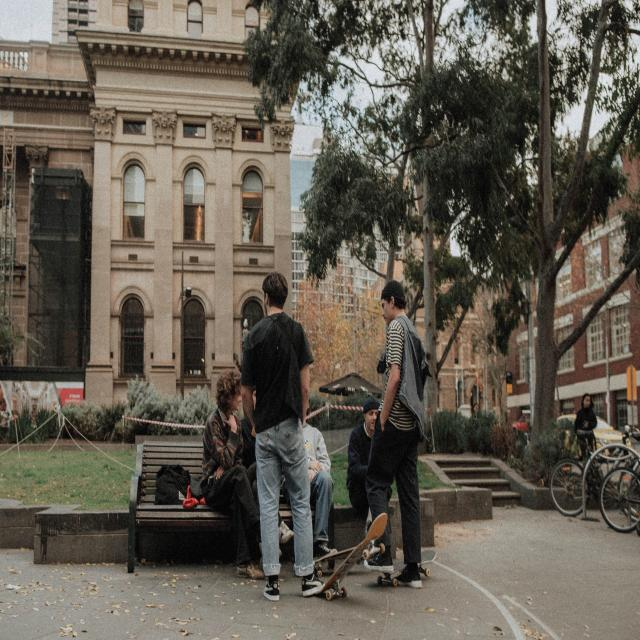adult: (239, 272, 325, 600), (364, 282, 430, 592), (348, 393, 381, 513)
